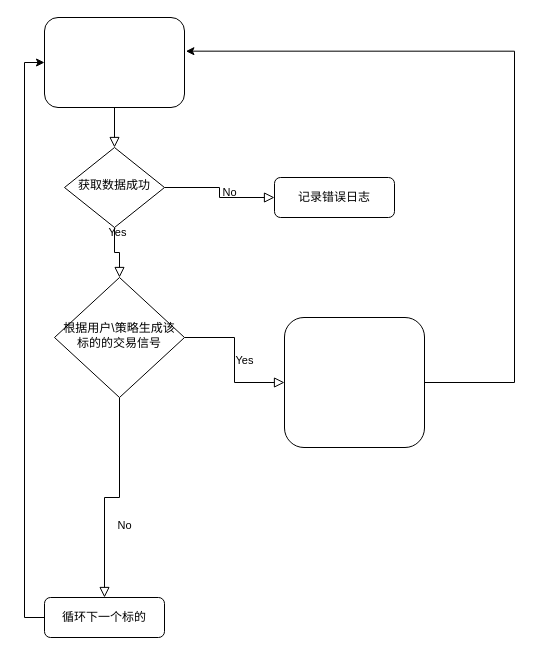
Some shapes in this 540 by 655 pixel diagram are drawn without their labels. Here are the shapes that lost their labels. From the top down, the box of each, then its label:
(44, 16, 184, 108): 行情api获取行情数据 数据格式: 标的名称,标的代码,时间周期,开盘价,最高价,最低价,收盘价,成交量
(284, 316, 424, 448): 生成的交易信号发送用户和服务器 信号信息: 标的名称,标的代码,时间周期,信号类别(多,空),信号价格,信号时间
